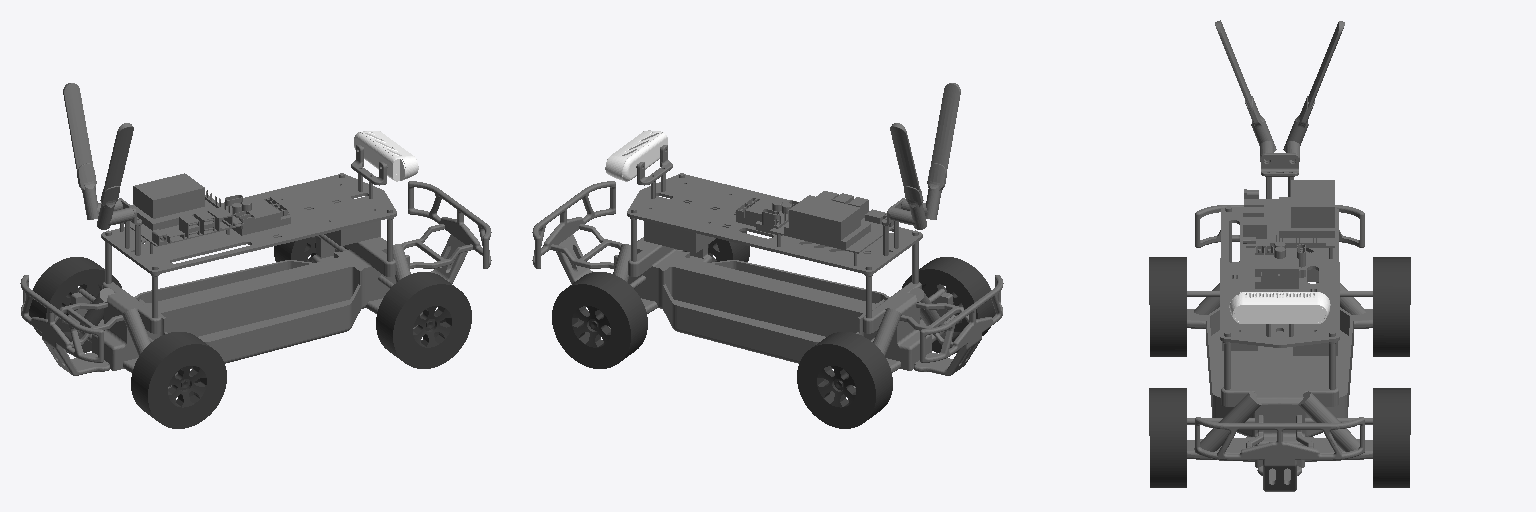
robot.urdf — car:
<?xml version="1.0"?>
<robot name="car"
  xmlns:xacro="http://ros.org/wiki/xacro">

  <material name="grey">
    <color rgba="0.5 0.5 0.5 1.0"/>
  </material>

  <material name="dark">
    <color rgba="0.3 0.3 0.3 1.0"/>
  </material>

  <material name="white">
    <color rgba="1.0 1.0 1.0 1.0"/>
  </material>

  <link name="base_footprint"/>

  <joint name="base_joint" type="fixed">
      <parent link="base_footprint"/>
      <child link="base_link" />
      <origin xyz="0.0 0.0 0.0" rpy="0 0 0"/>
  </joint>

  <link name="base_link">
    <visual>
      <!-- <origin xyz="-0.233 0.260 0.0" rpy="0 0 0"/> -->
      <origin xyz="0.0 0.0 0.0" rpy="0 0 0"/>
      <geometry>
          <mesh filename="package://model/meshes/Chassis.stl" scale="0.001 0.001 0.001"/>
      </geometry>
      <material name="grey"/>
    </visual>
    <collision>
      <origin xyz="0.0 0.0 0.140" rpy="0 0 0"/>
      <geometry>
        <box size="0.466 0.194 0.280"/>
      </geometry>
    </collision>
  </link>

  <joint name="front_right_wheel_joint" type="fixed">
    <parent link="base_link"/>
    <child link="front_right_wheel_link"/>
    <origin xyz="0.1315 -0.097 0.015" rpy="-1.57 0 0"/>
    <axis xyz="0 0 1"/>
  </joint>

   <joint name="front_left_wheel_joint" type="fixed">
    <parent link="base_link"/>
    <child link="front_left_wheel_link"/>
    <origin xyz="0.1315 0.097 0.015" rpy="-1.57 0 0"/>
    <axis xyz="0 0 1"/>
  </joint>

  <joint name="back_right_wheel_joint" type="fixed">
    <parent link="base_link"/>
    <child link="back_right_wheel_link"/>
    <origin xyz="-0.144 -0.097 0.015" rpy="-1.57 0 0"/>
    <axis xyz="0 0 1"/>
  </joint>

   <joint name="back_left_wheel_joint" type="fixed">
    <parent link="base_link"/>
    <child link="back_left_wheel_link"/>
    <origin xyz="-0.144 0.097 0.015" rpy="-1.57 0 0"/>
    <axis xyz="0 0 1"/>
  </joint>

  <link name="front_right_wheel_link">
    <visual>
      <origin xyz="0 0 -0.019" rpy="0 0 0"/>
      <geometry>
        <mesh filename="package://model/meshes/Tire.stl" scale="0.001 0.001 0.001"/>
      </geometry>
      <material name="dark"/>
    </visual>

    <collision>
      <origin xyz="0 0 -0.019" rpy="0 0 0"/>
      <geometry>
        <cylinder length="0.033" radius="0.0445"/>
      </geometry>
    </collision>
  </link>

  <link name="front_left_wheel_link">
    <visual>
      <origin xyz="0 0 0.019" rpy="3.14 0 0"/>
      <geometry>
        <mesh filename="package://model/meshes/Tire.stl" scale="0.001 0.001 0.001"/>
      </geometry>
      <material name="dark"/>
    </visual>

    <collision>
      <origin xyz="0 0 0.019" rpy="0 0 0"/>
      <geometry>
        <cylinder length="0.033" radius="0.0445"/>
      </geometry>
    </collision>
  </link>

  <link name="back_right_wheel_link">
    <visual>
      <origin xyz="0 0 -0.019" rpy="0 0 0"/>
      <geometry>
        <mesh filename="package://model/meshes/Tire.stl" scale="0.001 0.001 0.001"/>
      </geometry>
      <material name="dark"/>
    </visual>

    <collision>
      <origin xyz="0 0 -0.019" rpy="0 0 0"/>
      <geometry>
        <cylinder length="0.033" radius="0.0445"/>
      </geometry>
    </collision>
  </link>

  <link name="back_left_wheel_link">
    <visual>
      <origin xyz="0 0 0.019" rpy="3.14 0 0"/>
      <geometry>
        <mesh filename="package://model/meshes/Tire.stl" scale="0.001 0.001 0.001"/>
      </geometry>
      <material name="dark"/>
    </visual>

    <collision>
      <origin xyz="0 0 0.019" rpy="0 0 0"/>
      <geometry>
        <cylinder length="0.033" radius="0.0445"/>
      </geometry>
    </collision>
  </link>

  <joint name="depth_camera_joint" type="fixed">
    <parent link="base_link"/>
    <child link="depth_camera_link"/>
    <origin xyz="0.1585 0.0 0.149" rpy="0 0 0"/>
  </joint>

  <link name="depth_camera_link">
    <visual>
      <origin xyz="-0.025 0 0" rpy="0 0 0"/>
      <geometry>
        <mesh filename="package://model/meshes/Intel_RealSense_Depth_Camera_D435.stl" scale="0.001 0.001 0.001"/>
      </geometry>
      <material name="white"/>
    </visual>

    <collision>
      <origin xyz="0 0 -0.0125" rpy="0 0 0"/>
      <geometry>
        <box size="0.025 0.0898 0.025"/>
      </geometry>
    </collision>
  </link>


</robot>

--- Render facts (derived) ---
The picture shows the robot from 3 angles, left to right: view 1: azimuth 30°, elevation 25°; view 2: azimuth 150°, elevation 25°; view 3: azimuth 270°, elevation 25°; orthographic projection.
Model car with 7 links and 6 joints (6 fixed), rooted at base_footprint, posed all joints at 0.
Visible links, largest first — view 1: base_link, front_right_wheel_link, back_right_wheel_link, back_left_wheel_link, depth_camera_link, front_left_wheel_link; view 2: base_link, front_left_wheel_link, back_left_wheel_link, back_right_wheel_link, depth_camera_link, front_right_wheel_link; view 3: base_link, front_right_wheel_link, back_right_wheel_link, back_left_wheel_link, front_left_wheel_link, depth_camera_link.
Boxes of the visible links, bbox=[...] form: base_link: bbox=[20, 83, 491, 388]; front_right_wheel_link: bbox=[376, 272, 471, 368]; back_right_wheel_link: bbox=[131, 332, 226, 428]; back_left_wheel_link: bbox=[29, 257, 121, 353]; depth_camera_link: bbox=[354, 131, 418, 181]; front_left_wheel_link: bbox=[274, 236, 346, 262]; base_link: bbox=[532, 83, 1003, 388]; front_left_wheel_link: bbox=[552, 272, 647, 368]; back_left_wheel_link: bbox=[797, 332, 892, 428]; back_right_wheel_link: bbox=[902, 257, 994, 353]; depth_camera_link: bbox=[605, 130, 667, 181]; front_right_wheel_link: bbox=[685, 231, 749, 262]; base_link: bbox=[1187, 20, 1372, 491]; front_right_wheel_link: bbox=[1149, 388, 1186, 487]; back_right_wheel_link: bbox=[1149, 257, 1186, 356]; back_left_wheel_link: bbox=[1373, 257, 1410, 356]; front_left_wheel_link: bbox=[1373, 388, 1410, 487]; depth_camera_link: bbox=[1229, 292, 1330, 323].
Bounding box of the posed robot: 0.466 × 0.2321 × 0.3097 m (x, y, z).
Meshes: 3 distinct files referenced, 6 mesh visuals loaded (3 binary STL).